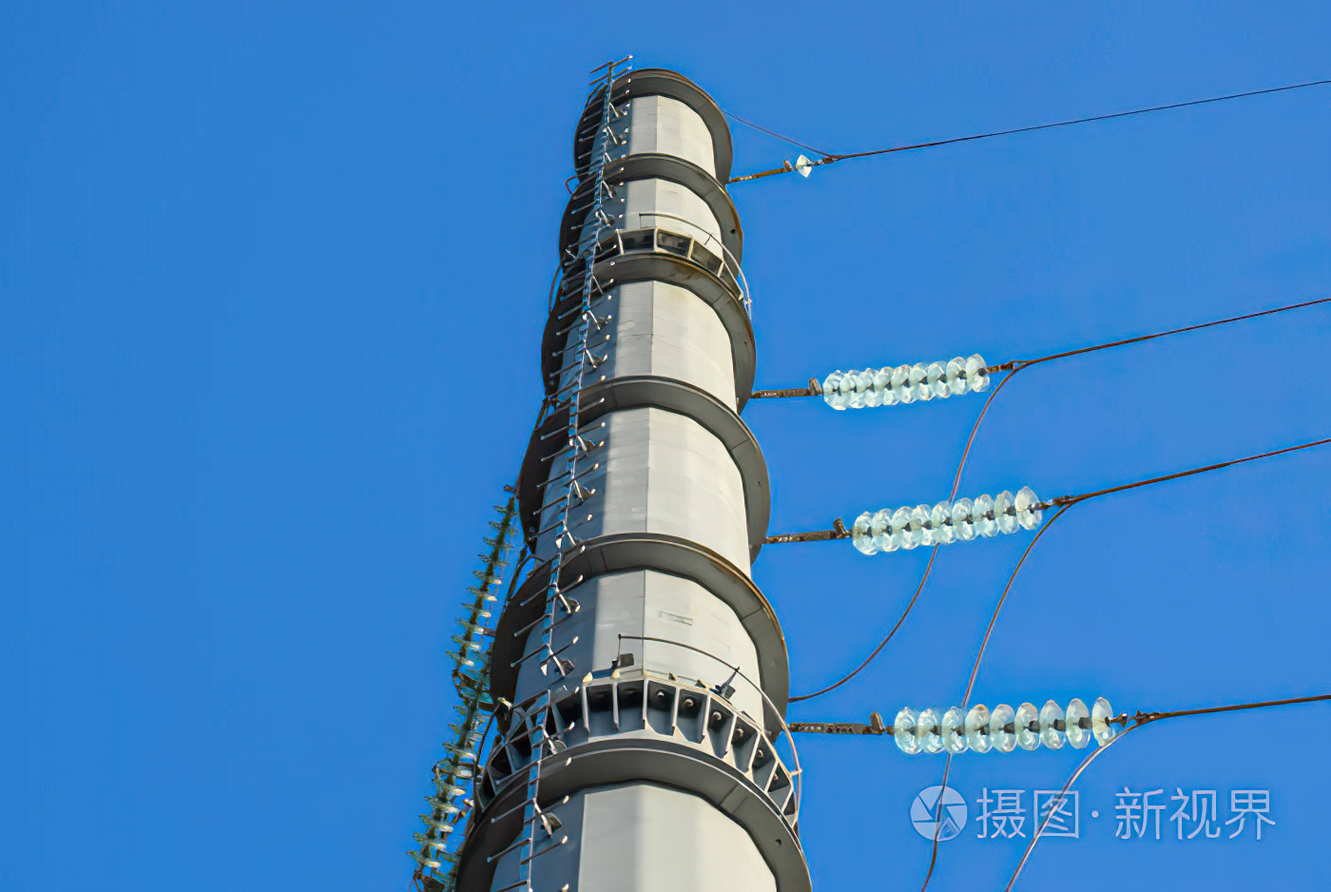insulator: (413, 670, 489, 869), (850, 486, 1047, 555), (888, 698, 1116, 755), (453, 486, 517, 669), (819, 354, 995, 414)
